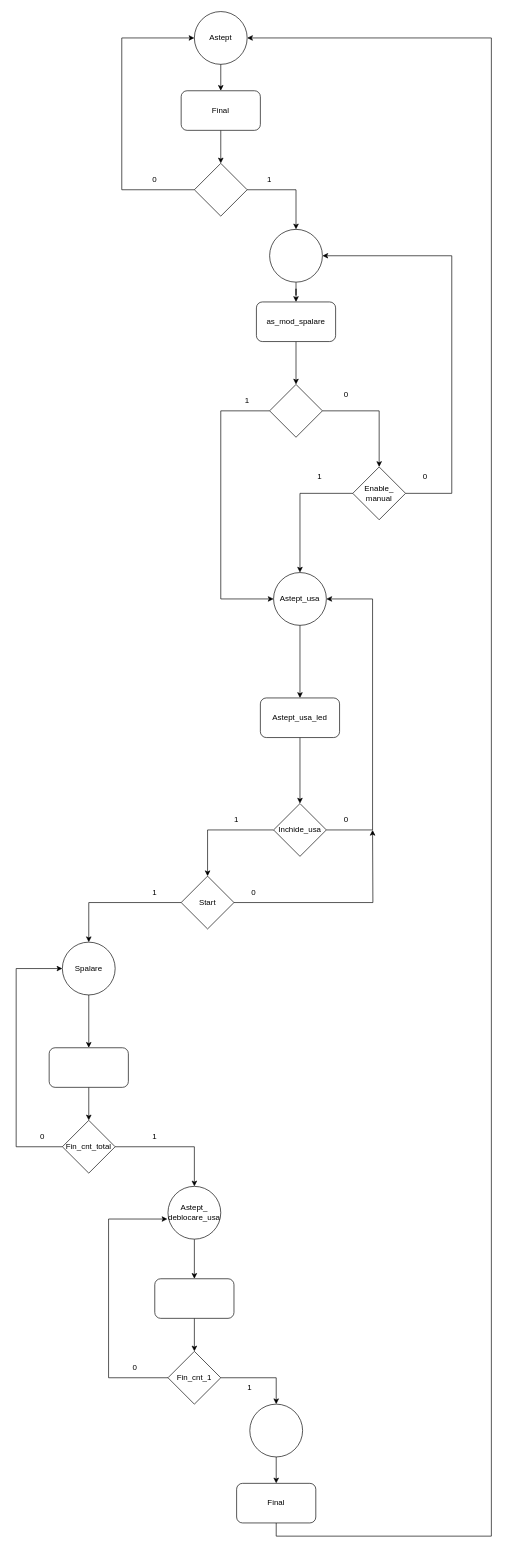
Some shapes in this 508 by 1553 pixel diagram are drawn without their labels. Each missing label, with the centre of its shape:
"AsteptMod" goes at pixel 295 255.
"Blocare_usa En_cnt_total" goes at pixel 88 1067.
"Blocare_usa En_cnt_total En_cnt_1" goes at pixel 194 1298.
"Enable_ automat" goes at pixel 295 410.
"Final_st" goes at pixel 276 1430.
"Pornire" goes at pixel 220 189.
